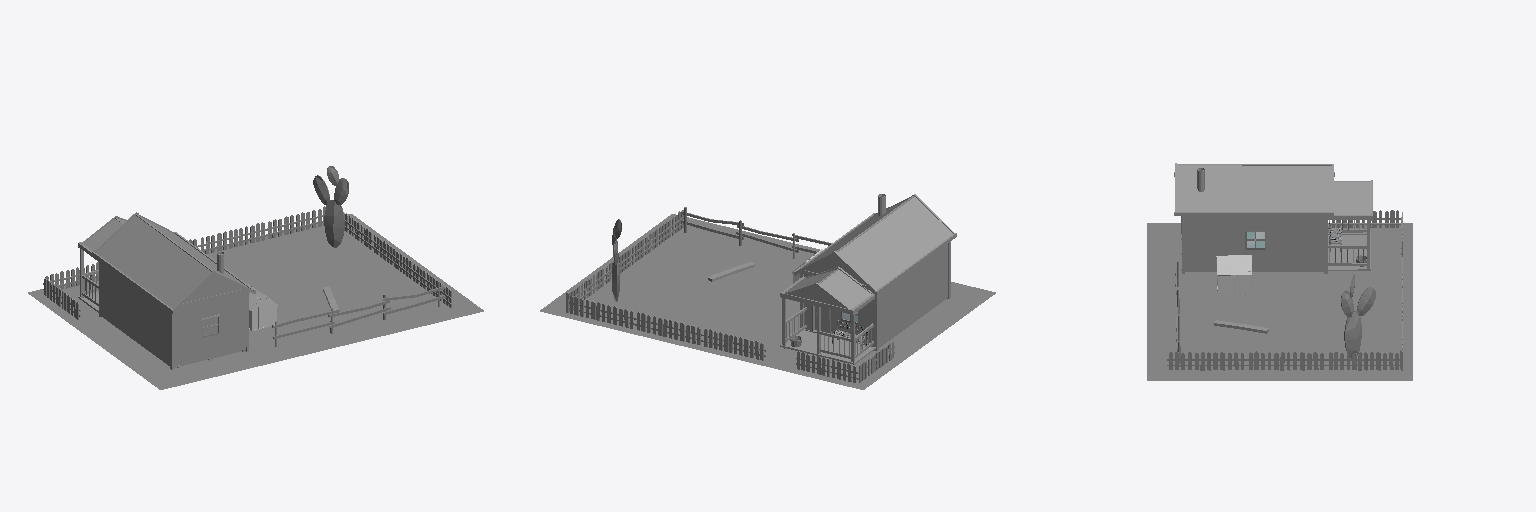
3 views of the same model, side by side, from view 1: azimuth 30°, elevation 25°; view 2: azimuth 150°, elevation 25°; view 3: azimuth 270°, elevation 25° (orthographic).
Parts seen in each view (by area): view 1: west_town_finish, Plane015, Plane006, Plane007, Plane020, Plane004, Plane009, Plane003, Plane001, Plane017, Plane008, Plane013 (+8 smaller); view 2: west_town_finish, Plane017, Plane015, Plane008, Plane004, Plane003, Plane002, Plane018, Plane001, Plane007, Plane009, Plane013 (+8 smaller); view 3: west_town_finish, Plane017, Plane007, Plane018, Plane006, Plane015, Plane003, Plane008, Plane004, doghouse0908, Plane024, Plane019 (+10 smaller).
Boxes of the visible parts, x1,y1,x2,y2 form: west_town_finish: [43, 166, 451, 369]; Plane015: [278, 251, 361, 288]; Plane006: [249, 326, 322, 363]; Plane007: [290, 314, 373, 350]; Plane020: [248, 227, 329, 263]; Plane004: [309, 276, 395, 311]; Plane009: [128, 358, 213, 389]; Plane003: [346, 301, 430, 337]; Plane001: [396, 287, 483, 323]; Plane017: [234, 265, 308, 298]; Plane008: [271, 289, 340, 325]; Plane013: [329, 238, 417, 275]; west_town_finish: [566, 194, 956, 382]; Plane017: [681, 289, 767, 326]; Plane015: [627, 276, 713, 312]; Plane008: [714, 267, 792, 301]; Plane004: [662, 252, 742, 288]; Plane003: [694, 227, 781, 263]; Plane002: [606, 238, 694, 275]; Plane018: [736, 302, 799, 337]; Plane001: [640, 214, 727, 250]; Plane007: [750, 240, 819, 275]; Plane009: [933, 282, 995, 316]; Plane013: [573, 263, 658, 299]; west_town_finish: [1167, 163, 1402, 370]; Plane017: [1280, 302, 1346, 328]; Plane007: [1147, 302, 1213, 328]; Plane018: [1280, 276, 1346, 301]; Plane006: [1147, 276, 1213, 301]; Plane015: [1280, 329, 1346, 354]; Plane003: [1147, 329, 1213, 354]; Plane008: [1213, 302, 1279, 328]; Plane004: [1213, 329, 1279, 354]; doghouse0908: [1216, 255, 1251, 294]; Plane024: [1346, 276, 1412, 301]; Plane019: [1353, 302, 1412, 328].
Size of the model in its own units: 0.9193 by 0.271 by 0.655.
Materials: 11 (2 with a texture image).